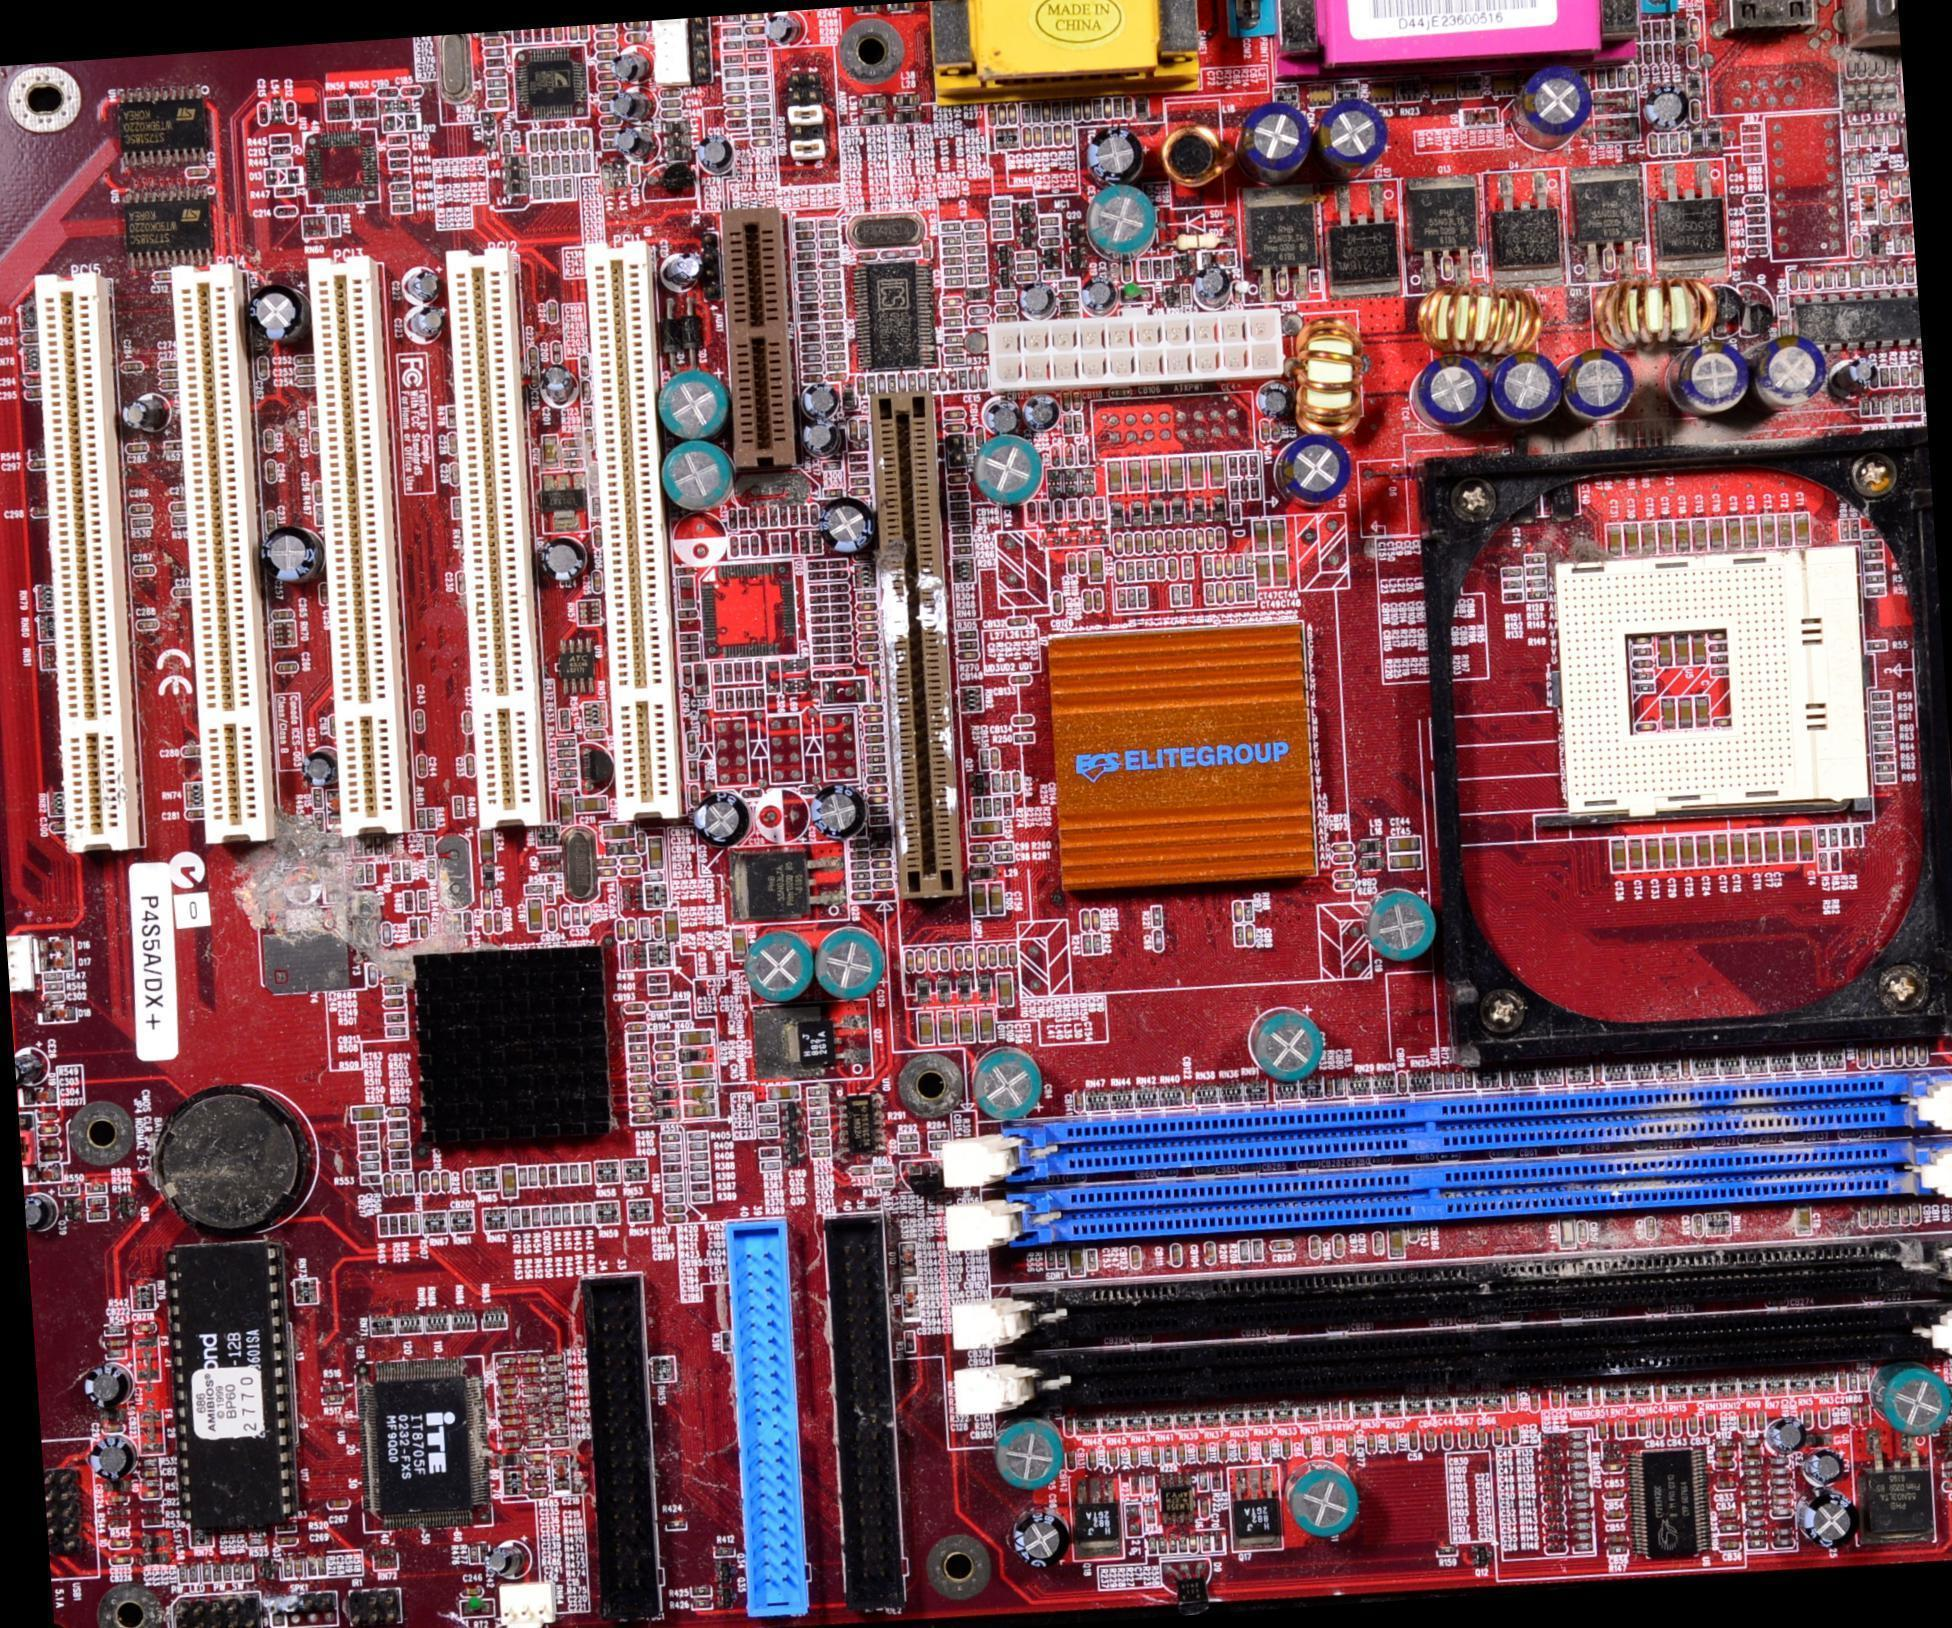Capacitor: (762, 798, 798, 834), (823, 793, 856, 827), (703, 802, 739, 833), (307, 754, 336, 781), (411, 269, 439, 296), (15, 1055, 39, 1076), (420, 312, 442, 333), (601, 823, 632, 838), (527, 902, 543, 929), (1388, 1231, 1404, 1255), (682, 1032, 710, 1045), (684, 1084, 710, 1098), (733, 930, 747, 953), (980, 1013, 994, 1036), (771, 1085, 796, 1098), (504, 1166, 516, 1193), (921, 1016, 932, 1042), (961, 1014, 973, 1037), (999, 978, 1010, 1000), (940, 1015, 951, 1038), (689, 1104, 711, 1115), (1443, 254, 1453, 280), (651, 839, 661, 863), (698, 666, 708, 690), (992, 888, 1003, 908), (684, 1066, 704, 1076), (1258, 1440, 1270, 1459), (1385, 1435, 1395, 1458), (137, 565, 154, 577), (376, 88, 398, 97), (413, 708, 424, 727), (577, 799, 597, 809), (135, 1325, 154, 1334), (1801, 1211, 1811, 1230), (108, 1556, 128, 1567), (1011, 676, 1031, 686), (1399, 1070, 1407, 1093), (266, 512, 277, 529), (358, 1109, 376, 1119), (1240, 1441, 1250, 1459), (503, 135, 512, 152), (859, 250, 877, 260), (448, 463, 457, 481), (977, 890, 986, 911), (285, 99, 294, 120), (260, 102, 268, 124), (42, 1153, 62, 1161), (1652, 1385, 1661, 1401), (1284, 1439, 1292, 1457), (1344, 1439, 1353, 1455), (1200, 1498, 1208, 1518), (1682, 135, 1689, 154), (1750, 247, 1765, 257), (578, 355, 587, 374), (726, 93, 740, 104), (972, 843, 990, 852), (383, 924, 390, 942), (666, 916, 674, 934), (385, 1013, 402, 1022), (1324, 1079, 1333, 1096), (400, 87, 419, 95), (1065, 1420, 1073, 1438), (1655, 45, 1664, 63), (530, 135, 538, 152), (315, 482, 323, 500), (1055, 501, 1064, 519), (456, 576, 463, 593), (675, 568, 692, 575), (593, 571, 601, 589), (1096, 591, 1104, 608), (183, 745, 198, 754), (1634, 659, 1649, 668), (49, 823, 63, 833), (1549, 1390, 1558, 1404), (1187, 1537, 1196, 1552), (265, 460, 274, 475), (465, 757, 474, 774), (1883, 1049, 1890, 1065), (466, 1173, 473, 1189), (1205, 1245, 1213, 1261), (1646, 1219, 1653, 1235), (1693, 1217, 1701, 1234), (1132, 1449, 1139, 1466), (1303, 1438, 1312, 1455), (1715, 1482, 1731, 1490), (1605, 1491, 1621, 1500), (950, 475, 967, 484), (594, 527, 602, 544), (328, 719, 336, 735), (1629, 636, 1645, 644), (25, 332, 36, 344), (463, 714, 470, 733), (588, 730, 601, 739), (629, 921, 635, 940), (1324, 1438, 1331, 1457), (1023, 129, 1032, 143), (904, 247, 917, 257), (483, 37, 498, 45), (1639, 724, 1653, 732), (931, 953, 938, 968), (391, 1142, 406, 1149), (1502, 1072, 1510, 1086), (810, 1129, 826, 1136), (1579, 1225, 1587, 1239), (1859, 1209, 1867, 1225), (330, 1500, 346, 1508), (1111, 1449, 1118, 1465), (1217, 1446, 1226, 1461), (1369, 1438, 1376, 1453), (1545, 1465, 1559, 1472), (1607, 1465, 1622, 1472), (1547, 1514, 1562, 1522), (1725, 1541, 1740, 1549), (273, 147, 287, 155), (276, 208, 290, 216), (1650, 136, 1658, 151), (804, 354, 818, 361), (129, 445, 144, 452), (133, 503, 147, 511), (1157, 537, 1165, 551), (1069, 555, 1076, 569), (833, 604, 848, 612), (693, 786, 698, 804), (548, 910, 554, 928), (1610, 1539, 1628, 1546), (580, 130, 587, 148), (1890, 178, 1897, 196), (1854, 268, 1862, 285), (582, 382, 589, 400), (832, 571, 849, 578), (448, 433, 452, 456), (1015, 773, 1021, 789), (423, 921, 429, 937), (907, 954, 913, 969), (631, 1002, 643, 1010), (40, 1137, 53, 1144), (1075, 1093, 1082, 1109), (1682, 1060, 1690, 1073), (1274, 1241, 1288, 1249), (1132, 1250, 1138, 1266), (1312, 1239, 1318, 1255), (1511, 1392, 1517, 1408), (1087, 1452, 1095, 1465), (1198, 1447, 1205, 1462), (1410, 1433, 1417, 1449), (1509, 1428, 1517, 1441), (1426, 1435, 1435, 1448), (1598, 1424, 1606, 1436), (1820, 1410, 1828, 1423), (1546, 1495, 1559, 1503), (729, 109, 743, 116), (539, 131, 545, 147), (989, 108, 996, 125), (1000, 108, 1006, 125), (1696, 100, 1702, 117), (155, 272, 168, 280), (1748, 197, 1761, 204), (550, 303, 557, 316), (259, 361, 266, 378), (1788, 274, 1796, 287), (263, 432, 269, 448), (1912, 368, 1919, 381), (1275, 422, 1280, 437), (1263, 423, 1269, 439), (1027, 505, 1033, 520), (731, 537, 737, 553), (320, 588, 327, 601), (1187, 534, 1195, 547), (276, 610, 289, 617), (834, 636, 849, 642), (1014, 717, 1028, 724), (597, 858, 611, 864), (368, 970, 374, 984), (1246, 928, 1253, 942), (1001, 951, 1006, 964), (597, 51, 612, 57), (656, 1033, 671, 1040), (634, 1105, 648, 1111), (1592, 1065, 1599, 1080), (441, 1174, 448, 1189), (1173, 1248, 1180, 1263), (1336, 1239, 1343, 1253), (1591, 1388, 1597, 1403), (1177, 1445, 1183, 1459), (278, 1539, 292, 1545), (664, 102, 679, 108), (1607, 1512, 1621, 1518), (388, 153, 407, 157), (1127, 100, 1133, 115), (632, 164, 638, 179), (1884, 206, 1890, 221), (295, 357, 310, 364), (973, 316, 987, 323), (1896, 265, 1902, 279), (313, 434, 319, 449), (1074, 394, 1079, 409), (729, 512, 736, 527), (751, 537, 757, 551), (1169, 533, 1175, 548), (1069, 557, 1075, 572), (1169, 561, 1175, 575), (1096, 593, 1103, 608), (532, 1455, 543, 1462), (1690, 1419, 1697, 1430), (823, 302, 835, 309), (829, 312, 840, 319), (949, 409, 960, 416), (31, 509, 42, 517), (618, 920, 623, 938), (44, 995, 61, 1000), (551, 133, 556, 150), (821, 262, 839, 267), (992, 751, 999, 764), (620, 858, 632, 864), (602, 41, 614, 47), (1338, 873, 1351, 879), (1008, 949, 1015, 961), (979, 952, 985, 965), (653, 1003, 666, 1010), (632, 1024, 645, 1032), (391, 1108, 404, 1114), (633, 1095, 646, 1101), (359, 1154, 372, 1161), (1896, 1051, 1901, 1063), (1870, 1210, 1875, 1223), (1911, 1208, 1918, 1221), (531, 1491, 545, 1498), (1443, 1432, 1450, 1445), (1741, 1416, 1747, 1429), (1803, 1412, 1809, 1426), (1546, 1476, 1559, 1482), (1777, 1500, 1790, 1506), (1778, 1512, 1791, 1518), (1724, 1526, 1737, 1532), (603, 128, 616, 134), (1036, 129, 1042, 142), (925, 242, 932, 255), (1744, 206, 1757, 213), (1124, 267, 1130, 280), (123, 363, 136, 369), (551, 345, 558, 358), (28, 389, 40, 396), (1049, 447, 1056, 461), (951, 493, 964, 499), (782, 510, 788, 524), (953, 505, 967, 510), (1083, 501, 1090, 514), (1117, 539, 1123, 551), (1147, 536, 1152, 549), (832, 584, 844, 590), (859, 604, 873, 610), (862, 642, 876, 648), (1710, 644, 1720, 652), (418, 757, 423, 773), (186, 812, 202, 817), (622, 869, 638, 874), (487, 914, 491, 931), (1094, 911, 1100, 927), (1084, 912, 1089, 928), (1186, 1088, 1192, 1105), (395, 1175, 401, 1192), (542, 1169, 547, 1186), (1410, 1229, 1418, 1239), (506, 1408, 516, 1415), (1942, 1484, 1951, 1493), (1644, 46, 1649, 61), (887, 251, 897, 259), (1606, 251, 1612, 267), (970, 306, 985, 311), (531, 346, 537, 362), (950, 424, 960, 431), (172, 502, 181, 511), (1126, 535, 1132, 551), (860, 634, 875, 639), (580, 26, 587, 38), (600, 31, 612, 37), (485, 895, 491, 906), (488, 50, 499, 57), (488, 68, 500, 74), (634, 1086, 646, 1093), (1873, 1053, 1879, 1064), (669, 1195, 681, 1201), (603, 72, 614, 78), (505, 1442, 516, 1448), (144, 1471, 155, 1478), (1495, 1430, 1502, 1441), (1639, 1423, 1645, 1435), (1476, 1435, 1482, 1446), (1705, 1420, 1712, 1431), (598, 101, 609, 107), (1551, 1546, 1563, 1552), (799, 295, 810, 301), (27, 378, 39, 384), (804, 326, 816, 333), (163, 382, 175, 389), (1198, 535, 1204, 546), (1117, 566, 1124, 578), (681, 611, 693, 617), (1055, 595, 1062, 607), (835, 626, 847, 633), (496, 916, 501, 930), (656, 922, 661, 938), (1233, 905, 1239, 920), (966, 950, 971, 964), (657, 1044, 672, 1049), (39, 1128, 54, 1133), (1376, 1237, 1382, 1252), (1902, 1209, 1907, 1224), (109, 1341, 124, 1346), (1343, 1403, 1348, 1417), (109, 1494, 123, 1499), (1149, 1448, 1155, 1463), (1658, 1421, 1664, 1435), (1693, 21, 1698, 35), (1602, 71, 1606, 86), (1055, 125, 1061, 140), (393, 183, 407, 188), (630, 167, 635, 182), (1854, 236, 1859, 251), (999, 315, 1013, 319), (921, 375, 925, 389), (942, 375, 947, 389), (969, 373, 974, 387), (1064, 446, 1069, 461), (1137, 536, 1142, 551), (1158, 562, 1163, 578), (1218, 587, 1223, 601), (1229, 586, 1233, 600), (860, 625, 874, 629), (684, 667, 689, 681), (755, 663, 761, 677), (1709, 630, 1723, 636), (569, 26, 576, 36), (871, 789, 884, 794), (386, 838, 391, 852), (638, 837, 644, 850), (995, 844, 1008, 850), (1337, 845, 1348, 851), (1338, 857, 1351, 863), (1336, 881, 1349, 886), (387, 978, 398, 984), (916, 954, 921, 967), (956, 952, 961, 965), (990, 952, 997, 962), (750, 41, 761, 47), (633, 1076, 645, 1081), (636, 1117, 648, 1122), (423, 1174, 427, 1193), (852, 1169, 866, 1174), (668, 1187, 681, 1192), (512, 1212, 517, 1224), (1882, 1209, 1887, 1222), (146, 1490, 156, 1497), (1528, 1394, 1534, 1405), (531, 1481, 542, 1487), (1618, 1422, 1623, 1435), (1547, 1444, 1559, 1450), (1775, 1458, 1785, 1464), (1720, 1462, 1730, 1469), (465, 1590, 478, 1596), (1721, 1512, 1732, 1517), (1547, 1526, 1560, 1531), (1689, 49, 1694, 62), (571, 132, 576, 144), (1103, 104, 1108, 116), (1076, 106, 1082, 119), (758, 138, 768, 144), (1279, 271, 1283, 290), (160, 363, 174, 368), (999, 306, 1011, 312), (164, 372, 176, 376), (296, 369, 309, 374), (828, 376, 839, 383), (857, 378, 862, 391), (877, 378, 882, 390), (563, 440, 576, 445), (813, 507, 817, 521), (750, 512, 755, 525), (176, 592, 187, 599), (1206, 534, 1211, 547), (140, 623, 152, 627), (1080, 557, 1085, 571), (831, 594, 842, 600), (1084, 593, 1089, 606), (859, 615, 872, 620), (1009, 619, 1022, 625), (962, 653, 975, 658), (627, 22, 640, 28), (563, 131, 566, 149), (868, 717, 879, 722), (690, 736, 696, 748), (867, 738, 879, 743), (877, 881, 889, 886), (857, 893, 869, 899), (1156, 934, 1161, 946), (655, 1054, 667, 1059), (1860, 1052, 1865, 1064), (544, 1210, 549, 1221), (500, 1368, 510, 1374), (488, 101, 500, 106), (663, 89, 674, 94), (1546, 1457, 1558, 1463), (1749, 1521, 1760, 1526), (1780, 1539, 1791, 1544), (1010, 107, 1015, 118), (1083, 105, 1088, 116), (946, 298, 957, 304), (299, 379, 309, 385), (1886, 269, 1891, 281), (981, 372, 986, 383), (850, 423, 855, 435), (852, 489, 864, 494), (875, 667, 880, 678), (875, 687, 880, 699), (556, 27, 562, 36), (750, 13, 759, 20), (878, 852, 887, 857), (943, 952, 947, 968), (1746, 1439, 1755, 1444), (1716, 1454, 1732, 1458), (1778, 1480, 1787, 1487), (1545, 1538, 1562, 1540), (32, 464, 40, 470), (870, 776, 881, 782), (872, 798, 882, 803), (997, 854, 1007, 860), (974, 857, 984, 862), (1906, 1052, 1912, 1062), (670, 1206, 679, 1211), (670, 1216, 680, 1221), (527, 1356, 536, 1361), (525, 1368, 535, 1373), (1460, 1435, 1466, 1445), (113, 1539, 124, 1544), (293, 1565, 299, 1575), (1544, 1503, 1553, 1508), (663, 111, 673, 115), (601, 115, 612, 120), (1668, 45, 1672, 60), (732, 122, 742, 127), (1063, 129, 1069, 140), (806, 345, 815, 350), (806, 365, 816, 370), (901, 376, 905, 390), (1065, 393, 1069, 407), (1217, 559, 1221, 574), (280, 667, 291, 672), (865, 655, 876, 660), (837, 669, 846, 674), (867, 708, 881, 712), (876, 862, 888, 866), (659, 1076, 671, 1080), (385, 1177, 388, 1191), (434, 1175, 438, 1189), (499, 1381, 513, 1385), (1760, 1415, 1764, 1429), (1630, 69, 1633, 83), (806, 377, 813, 382), (1226, 559, 1229, 573), (1920, 1052, 1924, 1061), (604, 92, 613, 97), (1749, 1449, 1757, 1454), (1546, 1483, 1554, 1488), (1777, 1490, 1785, 1495), (1718, 720, 1730, 724), (666, 1176, 677, 1179), (603, 82, 614, 86), (504, 1420, 516, 1424), (1673, 1422, 1676, 1433), (1815, 274, 1818, 285), (596, 24, 608, 28), (748, 28, 757, 31), (1776, 1469, 1785, 1473), (802, 277, 812, 281), (839, 656, 848, 660), (503, 1390, 511, 1393), (504, 1399, 513, 1403), (1549, 1434, 1557, 1437), (1780, 1529, 1789, 1533), (801, 285, 809, 288), (605, 142, 610, 147), (603, 870, 610, 874), (1079, 444, 1082, 458), (1178, 534, 1181, 547), (818, 671, 826, 675), (601, 63, 608, 65)
Connector: (38, 271, 135, 830), (451, 245, 534, 795), (593, 251, 670, 798), (176, 266, 251, 818), (324, 266, 393, 820)
IC: (364, 1364, 477, 1523), (714, 565, 791, 651), (1640, 1451, 1701, 1557), (862, 262, 920, 372), (130, 201, 207, 258), (120, 98, 201, 150), (520, 53, 585, 116), (841, 1100, 872, 1145), (1159, 1484, 1193, 1517), (561, 651, 591, 676), (505, 1473, 520, 1493)
Resistor: (723, 1332, 732, 1353), (107, 1324, 127, 1335), (144, 1508, 164, 1517), (451, 798, 462, 814), (391, 864, 402, 881), (670, 1000, 688, 1011), (904, 1333, 914, 1351), (323, 1382, 340, 1391), (584, 409, 593, 426), (1873, 691, 1889, 701), (972, 800, 982, 815), (524, 886, 543, 893), (1839, 829, 1848, 844), (43, 974, 63, 982), (1241, 1242, 1250, 1259), (1750, 214, 1765, 224), (1161, 259, 1170, 275), (166, 443, 181, 452), (314, 813, 322, 831), (356, 865, 365, 882), (486, 77, 504, 84), (394, 204, 411, 212), (1745, 156, 1763, 163), (1868, 640, 1883, 651), (522, 29, 531, 43), (714, 1547, 728, 1557), (552, 156, 561, 171), (1746, 227, 1760, 237), (829, 359, 843, 368), (1634, 672, 1651, 679), (1013, 734, 1029, 743), (641, 920, 648, 935), (362, 1162, 378, 1170), (724, 66, 741, 75), (144, 1518, 161, 1526), (554, 180, 563, 197), (331, 217, 339, 234), (971, 255, 988, 262), (1801, 273, 1809, 288), (1779, 299, 1786, 314), (313, 508, 321, 523), (1880, 753, 1893, 762), (687, 762, 695, 777), (405, 892, 413, 907), (417, 892, 425, 906), (1832, 852, 1840, 866), (1433, 1073, 1441, 1088), (89, 1211, 104, 1220), (1254, 1244, 1261, 1258), (1641, 23, 1649, 37), (279, 1521, 293, 1529), (669, 1522, 684, 1530), (468, 1546, 476, 1560), (1146, 1540, 1155, 1555), (1202, 1537, 1210, 1552), (752, 107, 767, 115), (573, 157, 581, 172), (1041, 228, 1056, 237), (1901, 176, 1910, 191), (825, 322, 840, 330), (565, 461, 578, 468), (1147, 561, 1154, 575), (1848, 521, 1857, 535), (1440, 1548, 1457, 1555), (1473, 260, 1480, 277), (1310, 272, 1316, 291), (453, 497, 459, 515), (771, 509, 778, 527), (727, 691, 732, 708), (1019, 254, 1031, 264), (1633, 648, 1649, 655), (427, 814, 435, 827), (418, 813, 424, 829), (353, 839, 360, 854), (368, 867, 376, 881), (1884, 772, 1897, 780), (645, 873, 658, 880), (412, 920, 418, 936), (671, 1014, 684, 1021), (39, 1111, 55, 1118), (809, 1088, 822, 1096), (361, 1124, 377, 1130), (362, 1145, 377, 1151), (92, 1197, 106, 1205), (528, 1168, 535, 1183), (873, 1165, 888, 1171), (410, 1216, 417, 1232), (140, 1460, 155, 1466), (109, 1518, 125, 1525), (1163, 1448, 1171, 1461), (1573, 1442, 1585, 1449), (203, 1567, 209, 1583), (755, 94, 768, 102), (690, 1602, 707, 1609), (274, 161, 290, 167), (1022, 105, 1028, 122), (819, 216, 832, 224), (1153, 261, 1161, 274), (1001, 289, 1013, 296), (1636, 248, 1642, 265), (1862, 271, 1870, 283), (311, 407, 318, 424), (1904, 367, 1910, 382), (592, 499, 598, 516), (791, 509, 797, 526), (952, 526, 965, 533), (1238, 556, 1245, 572), (1185, 561, 1191, 577), (680, 643, 696, 650), (1531, 590, 1544, 598), (681, 654, 697, 660), (736, 689, 743, 706), (724, 15, 740, 21), (981, 751, 987, 766), (1874, 703, 1889, 711), (1878, 723, 1892, 730), (425, 837, 432, 852), (853, 863, 868, 869), (1236, 929, 1242, 944), (389, 1028, 404, 1035), (630, 1066, 646, 1072), (393, 1152, 407, 1157), (750, 55, 766, 62), (876, 1179, 890, 1185), (532, 1210, 538, 1224), (1088, 1252, 1095, 1266), (326, 1397, 340, 1404), (756, 82, 770, 89), (1617, 70, 1623, 85), (1046, 129, 1052, 144), (276, 188, 290, 194), (798, 220, 812, 227), (1062, 282, 1076, 288), (944, 321, 958, 327), (585, 433, 591, 448), (861, 419, 866, 437), (170, 519, 185, 525), (759, 510, 765, 525), (1861, 534, 1876, 540), (1207, 585, 1212, 600), (681, 634, 695, 640), (960, 631, 975, 638), (714, 665, 720, 679), (717, 691, 723, 706), (757, 690, 763, 705), (1712, 670, 1723, 677), (1881, 764, 1892, 772), (1831, 833, 1838, 845), (763, 1127, 775, 1135), (395, 1162, 407, 1170), (111, 1510, 122, 1517), (1209, 1474, 1217, 1486), (271, 133, 282, 141), (392, 134, 404, 142), (1889, 130, 1897, 141), (1749, 145, 1760, 152), (632, 1058, 650, 1062), (382, 1218, 388, 1236), (447, 406, 452, 424), (1044, 503, 1049, 520), (1876, 714, 1889, 720), (1875, 744, 1888, 751), (405, 863, 411, 875), (46, 985, 59, 990), (650, 974, 663, 981), (652, 986, 664, 992), (361, 1135, 375, 1141), (1454, 1073, 1461, 1086), (665, 1134, 678, 1140), (903, 1134, 916, 1140), (904, 1145, 917, 1151), (550, 1169, 556, 1182), (562, 1168, 569, 1181), (763, 1161, 777, 1168), (585, 1207, 591, 1219), (1047, 1253, 1054, 1267), (111, 1351, 123, 1357), (1652, 24, 1659, 38), (250, 1538, 262, 1544), (1131, 1479, 1138, 1492), (179, 1568, 185, 1581), (1580, 1542, 1594, 1548), (1033, 106, 1040, 119), (1848, 131, 1855, 144), (1862, 132, 1867, 144), (799, 230, 812, 237), (943, 221, 956, 227), (994, 230, 1006, 237), (1048, 270, 1060, 277), (824, 292, 837, 298), (1750, 239, 1763, 245), (1066, 300, 1080, 306), (1894, 369, 1900, 382), (822, 460, 835, 467), (133, 520, 146, 527), (740, 511, 745, 524), (954, 537, 966, 543), (1137, 563, 1143, 575), (858, 593, 871, 600), (1121, 591, 1126, 604), (1504, 569, 1517, 576), (1867, 575, 1881, 582), (961, 642, 974, 649), (1821, 830, 1825, 846), (364, 1175, 374, 1183), (406, 1175, 410, 1192), (554, 1439, 564, 1446), (1576, 1463, 1585, 1470), (543, 156, 548, 172), (1744, 124, 1754, 131), (1662, 136, 1667, 152), (1043, 220, 1058, 226), (1840, 272, 1848, 282), (1825, 274, 1833, 284), (1064, 415, 1069, 432), (851, 476, 867, 482), (773, 537, 778, 553), (1845, 521, 1850, 537), (1526, 555, 1536, 562), (1174, 586, 1178, 601), (1712, 657, 1724, 664), (1637, 686, 1649, 693), (562, 772, 574, 778), (852, 843, 864, 849), (573, 909, 579, 921), (388, 986, 399, 993), (1096, 938, 1102, 949), (724, 43, 736, 51), (390, 1123, 402, 1131), (808, 1100, 819, 1106), (726, 55, 737, 62), (695, 1182, 707, 1188), (697, 1193, 708, 1200), (1573, 1451, 1584, 1458), (1146, 1481, 1153, 1492), (244, 1567, 249, 1577), (1611, 1546, 1623, 1552), (759, 127, 770, 133), (800, 251, 810, 258), (948, 256, 960, 262), (1064, 291, 1075, 297), (1876, 271, 1883, 282), (1074, 416, 1080, 428), (1896, 398, 1902, 409), (1884, 401, 1890, 412), (955, 548, 967, 554), (735, 666, 741, 678), (562, 712, 568, 726), (558, 752, 572, 758), (316, 791, 321, 806), (994, 777, 999, 792), (375, 839, 380, 853), (430, 862, 435, 877), (562, 908, 567, 922), (1822, 856, 1827, 871), (1154, 909, 1160, 925), (689, 1133, 704, 1139), (691, 1163, 705, 1168), (390, 1218, 395, 1232), (521, 1210, 526, 1224), (400, 1218, 405, 1232), (575, 1208, 580, 1222), (547, 1356, 561, 1360), (692, 1587, 707, 1593), (532, 158, 537, 172), (584, 156, 589, 170), (822, 282, 836, 287), (1895, 206, 1900, 221), (1141, 262, 1147, 278), (828, 353, 843, 359), (950, 356, 964, 362), (1883, 369, 1887, 385), (849, 465, 864, 470), (826, 490, 840, 495), (801, 507, 806, 522), (741, 537, 746, 552), (1132, 591, 1136, 605), (1250, 584, 1255, 598), (1527, 581, 1542, 586), (1942, 1459, 1951, 1467), (514, 30, 520, 40), (545, 28, 551, 37), (559, 739, 569, 746), (558, 762, 571, 767), (1005, 777, 1010, 790), (1881, 734, 1894, 740), (364, 840, 369, 853), (984, 800, 989, 812), (1003, 800, 1008, 813), (853, 853, 865, 858), (548, 888, 553, 901), (858, 884, 870, 889), (1084, 937, 1090, 950), (388, 999, 400, 1004), (486, 58, 500, 64), (64, 1183, 76, 1189), (666, 1145, 676, 1152), (690, 1146, 703, 1152), (930, 1134, 943, 1138), (813, 1141, 825, 1147), (664, 1154, 678, 1160), (814, 1150, 827, 1155), (930, 1143, 940, 1149), (572, 1169, 578, 1179), (505, 1432, 517, 1437), (1199, 1475, 1205, 1489), (215, 1566, 220, 1579), (225, 1567, 230, 1580), (1580, 1504, 1591, 1511), (1169, 1539, 1175, 1549), (1576, 1524, 1589, 1529), (1581, 1533, 1593, 1537), (1112, 101, 1119, 111), (1063, 107, 1070, 117), (393, 194, 405, 200), (544, 182, 550, 195), (567, 182, 573, 194), (801, 243, 811, 249), (970, 245, 980, 252), (948, 278, 958, 284), (828, 344, 841, 348), (1908, 267, 1913, 280), (870, 375, 875, 387), (889, 376, 893, 389), (928, 375, 932, 387), (1781, 323, 1789, 332), (1915, 398, 1920, 410), (1904, 398, 1908, 411), (783, 536, 788, 549), (1127, 564, 1132, 578), (1238, 583, 1243, 597), (1532, 566, 1542, 573), (815, 638, 825, 643), (816, 647, 826, 654), (1867, 588, 1877, 595), (725, 666, 730, 679), (746, 690, 751, 703), (868, 727, 879, 731), (995, 801, 1000, 813), (583, 911, 589, 923), (1857, 830, 1862, 841), (813, 1119, 823, 1124), (1444, 1074, 1449, 1084), (1465, 1076, 1471, 1088), (666, 1163, 677, 1167), (580, 1169, 586, 1181), (694, 1176, 706, 1180), (563, 1208, 568, 1219), (749, 66, 760, 72), (1060, 1253, 1065, 1265), (488, 90, 499, 95), (1894, 1209, 1899, 1221), (549, 1365, 561, 1370), (526, 1378, 536, 1383), (728, 82, 740, 87), (550, 1406, 561, 1410), (1666, 24, 1672, 35), (320, 1560, 325, 1571), (310, 1563, 314, 1574), (1052, 106, 1057, 116), (1671, 137, 1676, 148), (946, 235, 956, 240), (800, 262, 811, 268), (823, 272, 835, 277), (948, 268, 959, 273), (1903, 206, 1909, 217), (805, 314, 817, 319), (828, 336, 840, 341), (567, 450, 578, 456), (852, 455, 864, 460), (1874, 402, 1879, 413), (1071, 504, 1076, 516), (803, 536, 807, 548), (810, 563, 822, 567), (812, 572, 823, 578), (1184, 587, 1189, 599), (1866, 554, 1878, 559), (1866, 566, 1877, 571), (1248, 902, 1252, 917), (632, 1046, 641, 1052), (522, 1169, 525, 1185), (553, 1395, 561, 1401), (1577, 1473, 1586, 1479), (961, 372, 964, 388), (1206, 559, 1210, 575), (1248, 556, 1252, 572), (870, 747, 880, 753), (563, 782, 573, 787), (857, 873, 868, 877), (760, 1106, 770, 1111), (763, 1116, 774, 1121), (87, 1185, 98, 1191), (764, 1149, 774, 1154), (693, 1155, 702, 1159), (502, 1358, 512, 1362), (551, 1376, 561, 1381), (143, 1479, 153, 1484), (531, 1470, 541, 1475), (1722, 1441, 1731, 1447), (190, 1569, 194, 1580), (234, 1568, 239, 1578), (285, 1564, 290, 1575), (1182, 1539, 1187, 1549), (1751, 1530, 1761, 1535), (755, 118, 766, 124), (1610, 74, 1615, 85), (823, 232, 834, 237), (1865, 157, 1870, 167), (822, 242, 832, 246), (969, 233, 979, 239), (947, 247, 957, 252), (971, 266, 981, 271), (1021, 264, 1031, 269), (805, 303, 815, 308), (806, 336, 816, 340), (1865, 404, 1870, 413), (814, 587, 823, 592), (815, 596, 825, 601), (815, 606, 826, 611), (1867, 541, 1878, 547), (817, 628, 827, 633), (817, 658, 827, 664), (747, 664, 751, 677), (876, 872, 888, 876), (629, 1036, 642, 1040), (812, 1112, 825, 1115), (565, 157, 568, 170), (534, 181, 537, 194), (1097, 500, 1101, 512), (536, 29, 542, 37), (553, 1209, 558, 1218), (551, 1386, 559, 1391), (529, 1418, 537, 1422), (531, 1431, 540, 1437), (1575, 1433, 1583, 1438), (1749, 1463, 1757, 1468), (1751, 1480, 1759, 1485), (1943, 1472, 1951, 1477), (1158, 1540, 1163, 1549), (1580, 1514, 1589, 1519), (995, 202, 1004, 208), (997, 213, 1005, 217), (33, 452, 41, 458), (816, 616, 823, 621), (1506, 594, 1514, 599), (871, 757, 882, 761), (871, 767, 882, 771), (392, 1135, 404, 1139), (1139, 591, 1143, 602), (726, 30, 732, 36), (529, 1399, 538, 1403), (553, 1417, 562, 1421), (531, 1444, 539, 1449), (1577, 1493, 1584, 1498), (1751, 1502, 1760, 1504), (1751, 1540, 1758, 1545), (994, 223, 1004, 227), (969, 276, 976, 281), (872, 807, 881, 811), (529, 1407, 536, 1411), (554, 1430, 563, 1434), (1877, 131, 1880, 140), (822, 252, 830, 255), (947, 337, 955, 340), (1506, 583, 1514, 587), (1097, 101, 1100, 115), (875, 820, 882, 823), (528, 1389, 535, 1393), (1576, 1484, 1583, 1487), (1750, 1473, 1756, 1475), (1752, 1512, 1759, 1515), (1747, 137, 1755, 140), (1854, 160, 1857, 173), (912, 375, 914, 388), (1947, 1386, 1951, 1391), (1750, 1492, 1757, 1494)
Transistor: (1862, 1468, 1927, 1537), (735, 852, 802, 911), (1408, 182, 1469, 244), (1583, 174, 1636, 234), (1252, 202, 1304, 258), (1234, 1471, 1276, 1538), (1661, 199, 1717, 249), (1336, 227, 1382, 282), (1078, 1486, 1115, 1551), (1488, 209, 1542, 255), (784, 1023, 835, 1068), (544, 474, 582, 525), (582, 747, 608, 786), (1067, 221, 1085, 247), (1015, 202, 1033, 223), (973, 773, 986, 793), (1473, 1548, 1486, 1567), (997, 243, 1011, 258), (1021, 228, 1035, 245), (1047, 250, 1057, 267), (1873, 237, 1883, 255), (1073, 252, 1083, 266), (995, 270, 1009, 281)
